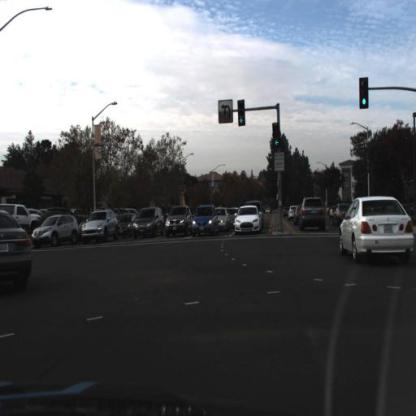car: (32, 212, 79, 246), (82, 209, 120, 246), (2, 203, 43, 230), (134, 207, 165, 239), (301, 197, 328, 233), (166, 206, 193, 241), (193, 206, 220, 239), (235, 206, 263, 233), (170, 206, 195, 236), (118, 213, 135, 238), (336, 201, 351, 227), (218, 206, 231, 233), (289, 202, 297, 224), (284, 200, 292, 221), (295, 205, 303, 226)
trafficLight: (273, 124, 281, 150)
trafficLight-Green: (360, 79, 369, 110)
trafficLight-GreenLeft: (272, 121, 283, 153), (238, 99, 248, 127)
